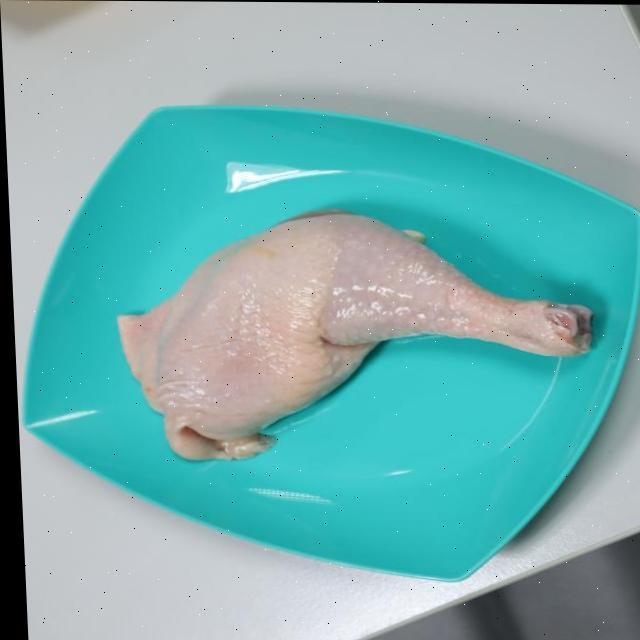quater: (118, 215, 589, 449)
